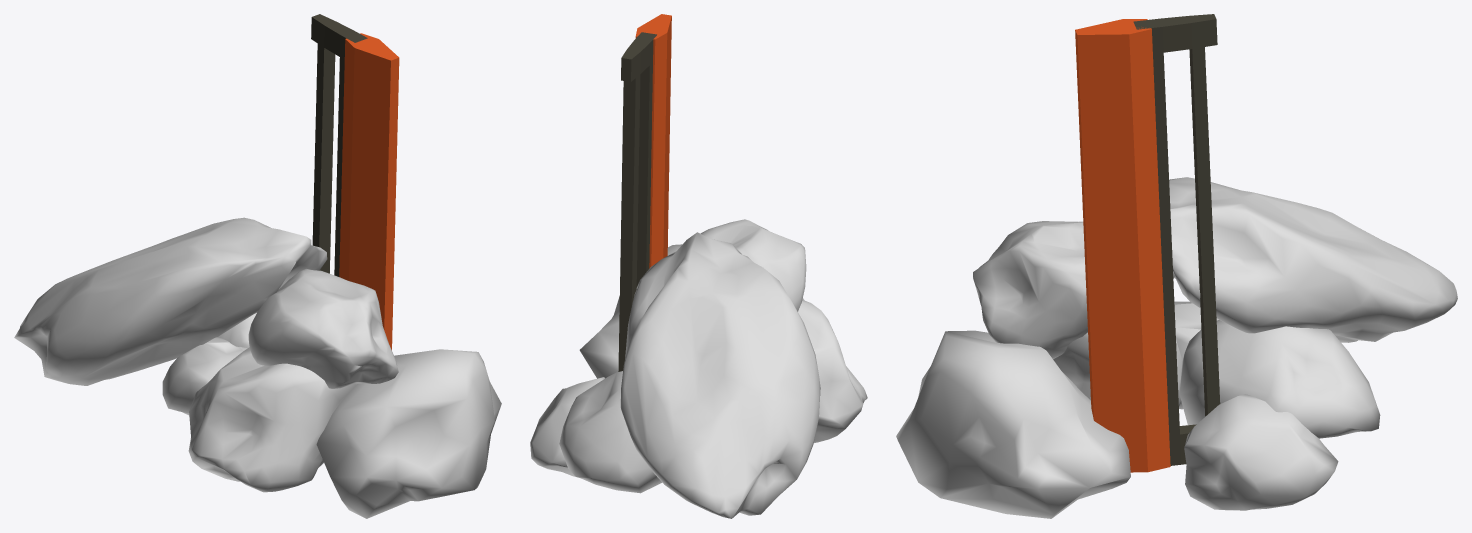
File: stoneSword.fbx
3 renders of one model, left to right at view 1: azimuth 30°, elevation 25°; view 2: azimuth 150°, elevation 25°; view 3: azimuth 270°, elevation 25°, orthographic. The views are drawn at different scales.
Parts seen in each view (by area): view 1: Cube.007, Cube.001; view 2: Cube.007, Cube.001; view 3: Cube.007, Cube.001.
Boxes of the visible parts, box(x1,y1,x2,y2) form: Cube.007: box(14, 217, 501, 518); Cube.001: box(311, 14, 399, 349); Cube.007: box(530, 219, 867, 518); Cube.001: box(618, 14, 671, 371); Cube.007: box(896, 177, 1457, 518); Cube.001: box(1075, 14, 1220, 472).
Bounding box in the file's own units: 2.87 × 3.48 × 3.72.
